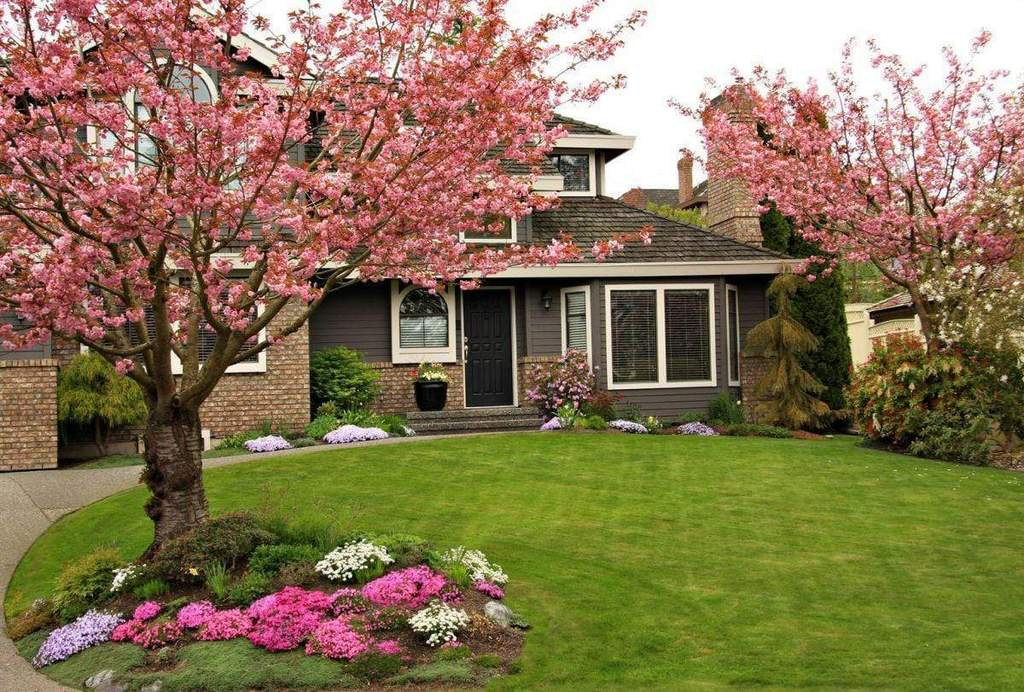bush: (825, 328, 1023, 466), (305, 347, 391, 424)
tree: (1, 1, 605, 561), (670, 38, 1019, 456)
